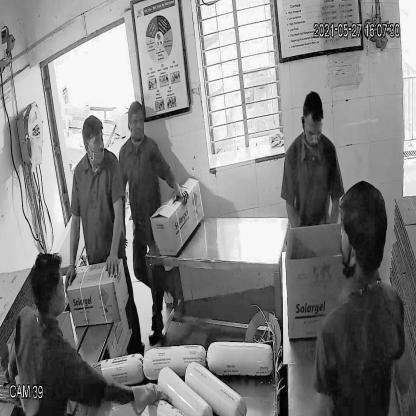no_goggles: (81, 130, 107, 155), (301, 118, 324, 143)
